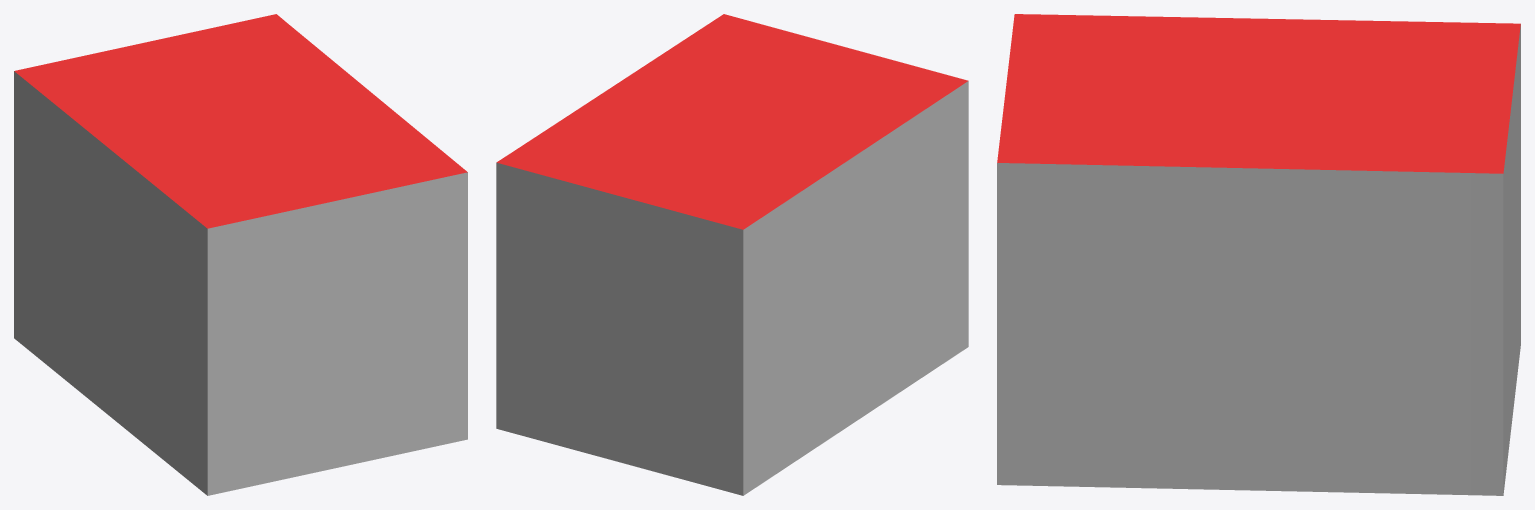
File: DEBY_LOD2_4728410.dae
3 renders of one model, left to right at view 1: azimuth 30°, elevation 25°; view 2: azimuth 150°, elevation 25°; view 3: azimuth 270°, elevation 25°, orthographic. The views are drawn at different scales.
Size of the model in its own units: 3.74 by 5.19 by 3.52.
